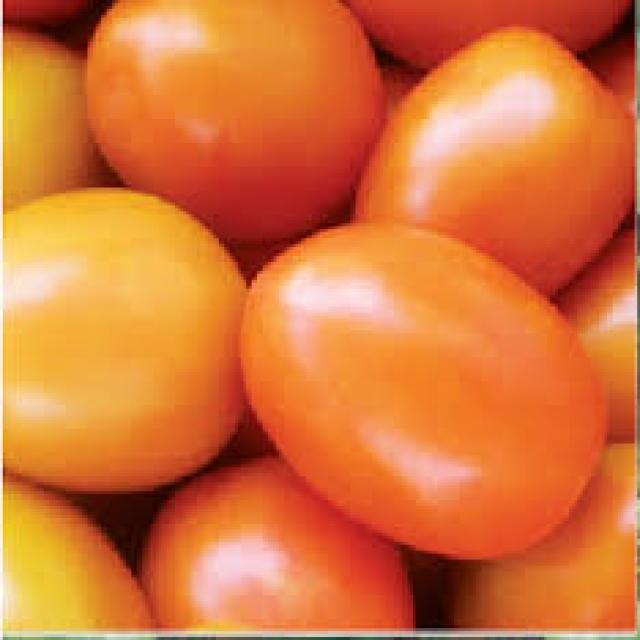Fresh_tomato: (245, 238, 602, 530), (2, 158, 233, 502), (376, 36, 633, 262)
